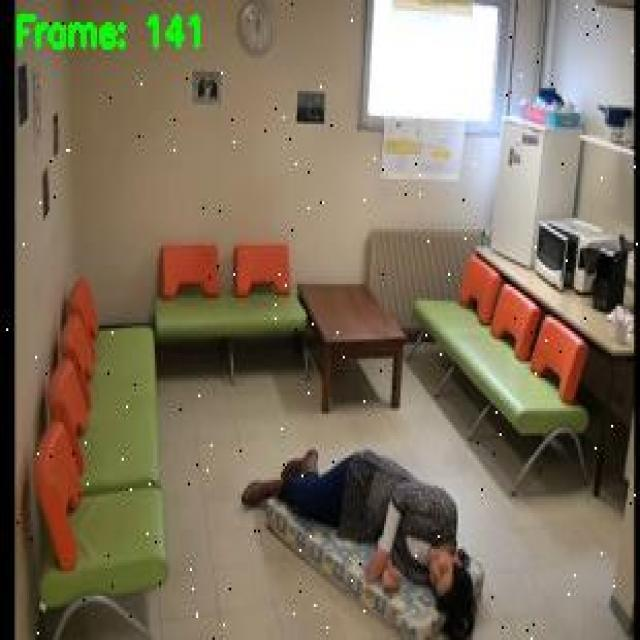fall: (239, 436, 479, 637)
